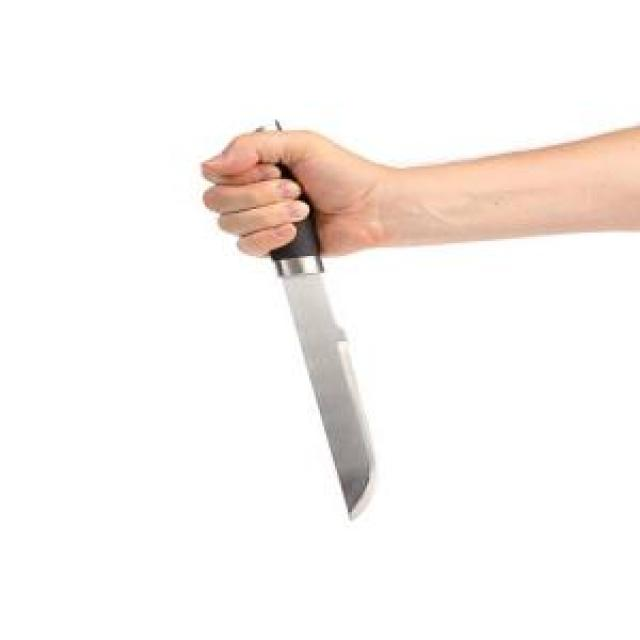knife: (207, 117, 461, 524)
